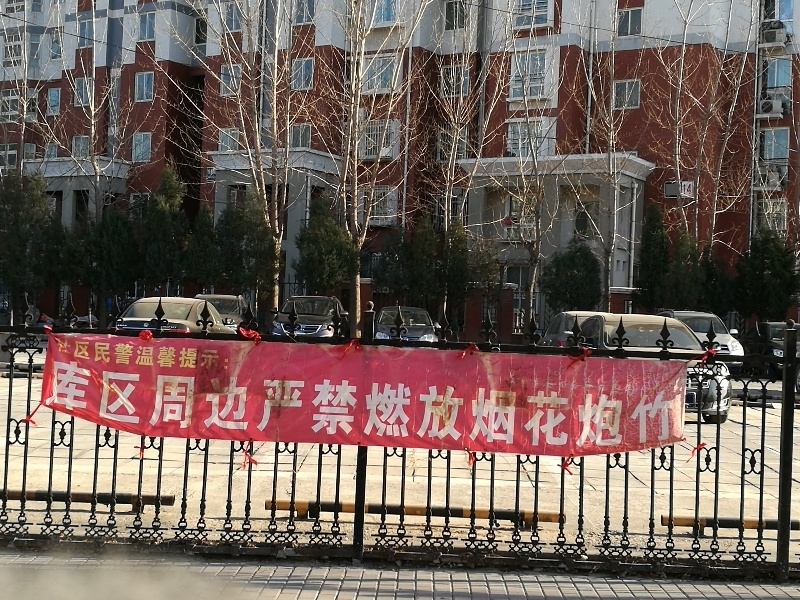text: (49, 359, 64, 455), (65, 359, 80, 455), (81, 359, 96, 455), (97, 359, 112, 455), (113, 359, 128, 455), (129, 359, 144, 455), (145, 359, 160, 455), (161, 359, 176, 455), (177, 359, 192, 455), (193, 359, 208, 455), (209, 359, 224, 455), (225, 359, 240, 455), (241, 359, 256, 455), (257, 359, 272, 455), (273, 359, 288, 455), (289, 359, 304, 455), (305, 359, 320, 455), (321, 359, 336, 455), (337, 359, 352, 455), (353, 359, 368, 455), (369, 359, 384, 455), (385, 359, 400, 455), (401, 359, 416, 455), (417, 359, 432, 455), (433, 359, 448, 455), (449, 359, 464, 455), (465, 359, 480, 455), (481, 359, 496, 455), (497, 359, 512, 455), (513, 359, 528, 455), (529, 359, 544, 455), (545, 359, 560, 455), (561, 359, 576, 455), (577, 359, 592, 455), (593, 359, 608, 455), (609, 359, 624, 455), (625, 359, 640, 455), (641, 359, 656, 455), (657, 359, 672, 455), (673, 359, 681, 455), (65, 338, 80, 373), (81, 338, 96, 373), (97, 338, 112, 373), (113, 338, 128, 373), (129, 338, 144, 373), (145, 338, 160, 373), (161, 338, 176, 373), (177, 338, 192, 373), (193, 338, 208, 373), (209, 338, 224, 373), (57, 338, 64, 373), (225, 338, 231, 373), (47, 359, 48, 455), (683, 184, 688, 195), (689, 184, 692, 195)
